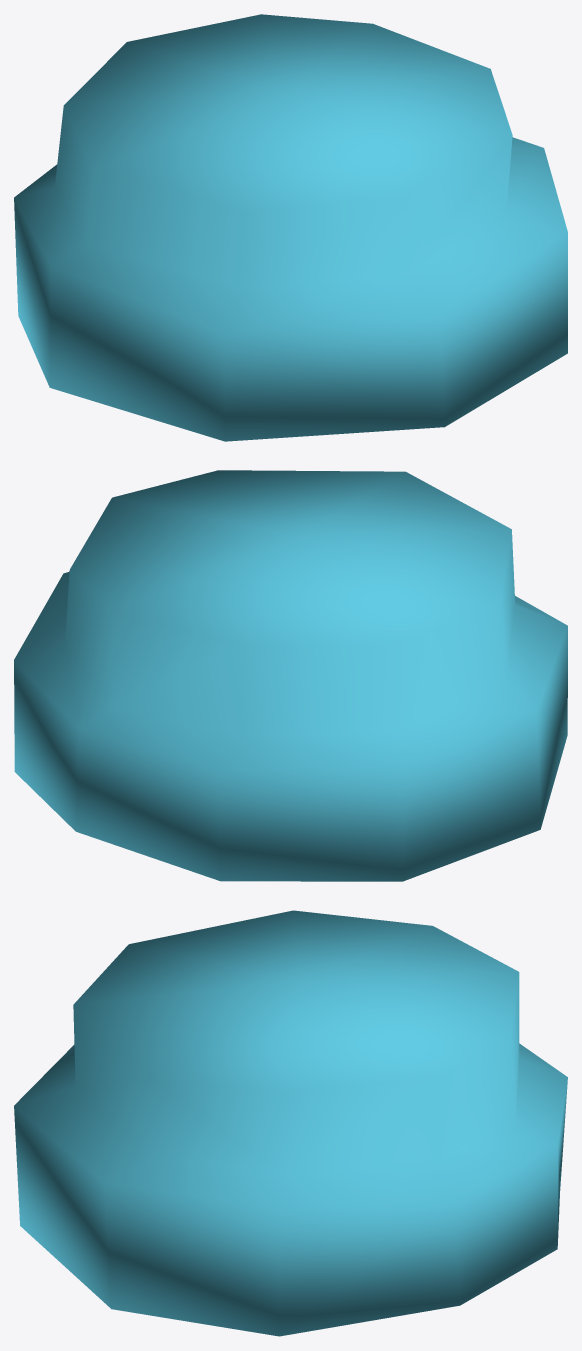
The model's file is column_02.FBX.
3 renders of one model, top to bottom at view 1: azimuth 30°, elevation 25°; view 2: azimuth 150°, elevation 25°; view 3: azimuth 270°, elevation 25°, orthographic.
Visible parts, largest first — view 1: column_02; view 2: column_02; view 3: column_02.
Boxes of the visible parts, x1,y1,x2,y2 form: column_02: (14, 14, 567, 441); column_02: (14, 470, 567, 881); column_02: (14, 910, 567, 1336).
Bounding box in the file's own units: 33.44 × 16.57 × 32.87.
